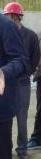boots: (16, 149, 30, 159), (0, 145, 7, 156)
hard-hat: (2, 1, 24, 15)
